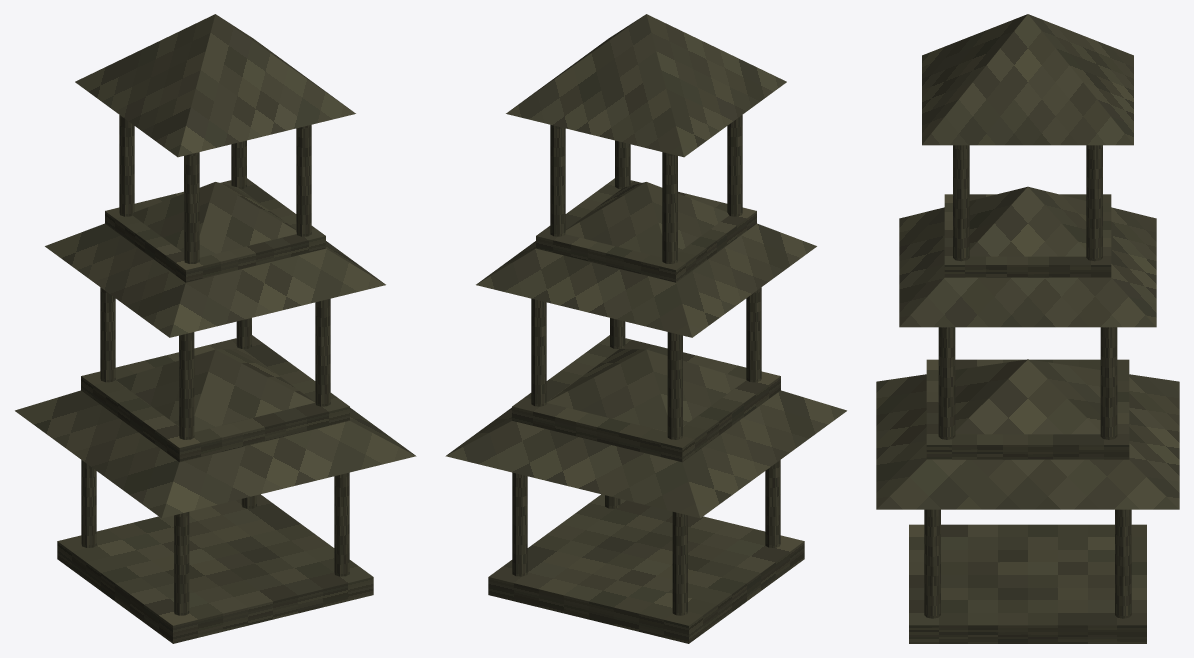
Rendered from pagoda_55.glb.
3 views of the same model, side by side, from view 1: azimuth 30°, elevation 25°; view 2: azimuth 150°, elevation 25°; view 3: azimuth 270°, elevation 25° (orthographic). The views are drawn at different scales.
Visible parts, largest first — view 1: Roof, Floor, Roof.001, Roof.002, Floor.001, Floor.002, Column.008, Column.010, Column.004, Column.006, Column.002, Column (+4 smaller); view 2: Roof, Floor, Roof.001, Roof.002, Floor.001, Floor.002, Column.009, Column.011, Column.005, Column.007, Column.003, Column.001 (+4 smaller); view 3: Roof, Roof.001, Floor, Roof.002, Floor.001, Floor.002, Column.006, Column.007, Column.010, Column.011, Column.002, Column.003.
Boxes of the visible parts, left/top/right/bottom form: Roof: left=15, top=349, right=416, bottom=518; Floor: left=57, top=494, right=373, bottom=643; Roof.001: left=45, top=182, right=385, bottom=337; Roof.002: left=75, top=14, right=355, bottom=157; Floor.001: left=81, top=335, right=349, bottom=462; Floor.002: left=105, top=178, right=325, bottom=282; Column.008: left=184, top=152, right=199, bottom=263; Column.010: left=296, top=125, right=311, bottom=236; Column.004: left=179, top=332, right=194, bottom=439; Column.006: left=315, top=298, right=330, bottom=406; Column.002: left=334, top=472, right=349, bottom=576; Column: left=174, top=512, right=189, bottom=615; Roof: left=445, top=349, right=846, bottom=518; Floor: left=488, top=494, right=804, bottom=643; Roof.001: left=476, top=182, right=816, bottom=337; Roof.002: left=506, top=14, right=786, bottom=157; Floor.001: left=512, top=335, right=780, bottom=462; Floor.002: left=536, top=178, right=756, bottom=282; Column.009: left=662, top=152, right=677, bottom=263; Column.011: left=550, top=125, right=565, bottom=236; Column.005: left=667, top=332, right=682, bottom=439; Column.007: left=531, top=298, right=546, bottom=406; Column.003: left=512, top=472, right=527, bottom=576; Column.001: left=672, top=512, right=687, bottom=615; Roof: left=876, top=359, right=1179, bottom=509; Roof.001: left=899, top=186, right=1156, bottom=327; Floor: left=909, top=524, right=1146, bottom=643; Roof.002: left=922, top=14, right=1133, bottom=145; Floor.001: left=926, top=359, right=1129, bottom=459; Floor.002: left=944, top=194, right=1111, bottom=277; Column.006: left=938, top=327, right=955, bottom=439; Column.007: left=1100, top=327, right=1117, bottom=439; Column.010: left=953, top=145, right=969, bottom=261; Column.011: left=1086, top=145, right=1102, bottom=261; Column.002: left=924, top=509, right=940, bottom=618; Column.003: left=1115, top=509, right=1131, bottom=618.
Size of the model in its own units: 4.41 by 9.31 by 4.41.
1 material, 1 textured.
